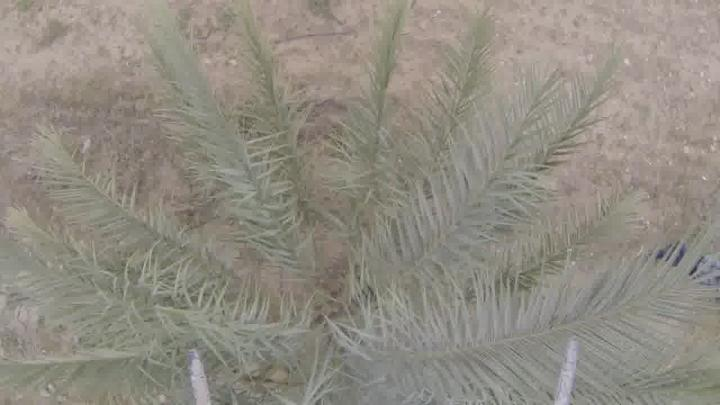Date-Palm-Crown: (81, 155, 554, 405)
